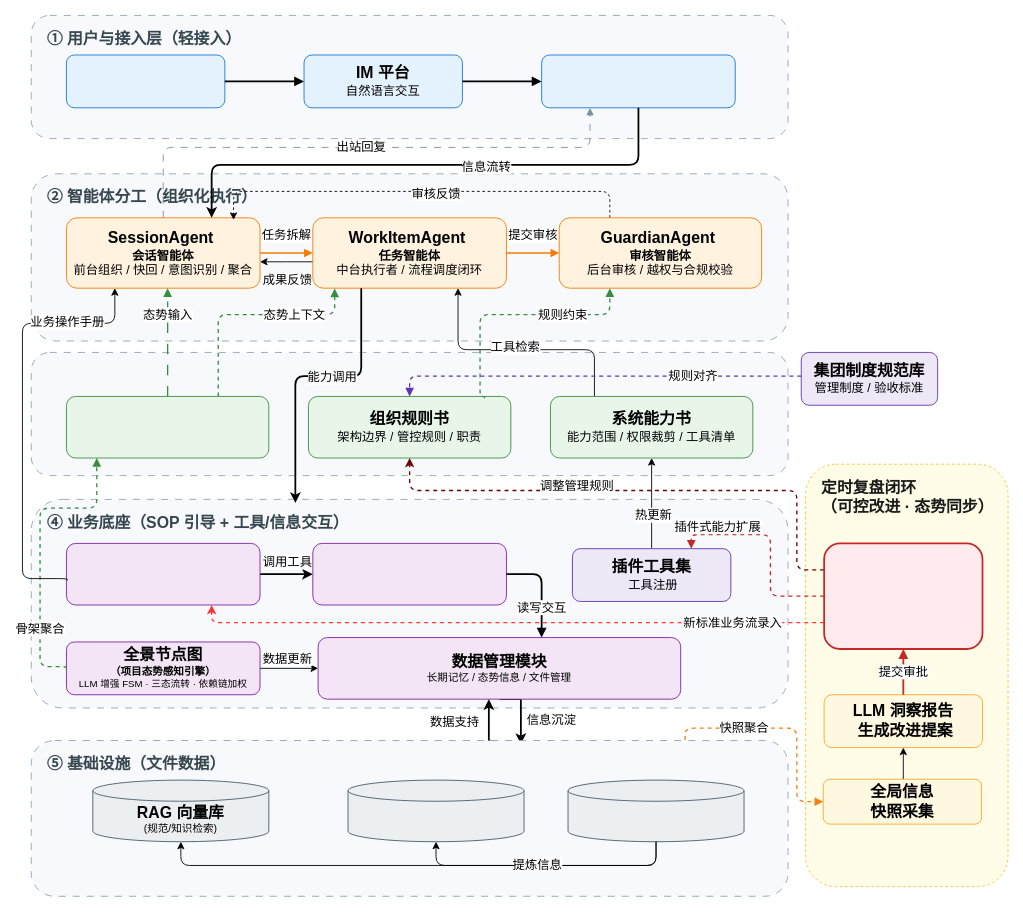
Image size: 1023x912. Some labels were removed from this diagram. Here are the shapes that lost their labels. From the top down, the box of each, then its label:
(66, 54, 225, 108): 企业员工 现场 / 项目 / 管理
(541, 54, 735, 108): 转接插件 去重 + 标准化 + 转发
(66, 396, 269, 458): 项目态势书 全景节点骨架 · 认知聚合
(30, 352, 788, 476): ③ 三书认知基座（共享信息地图 ）
(66, 543, 260, 605): SOP 库 事件/任务/会议标准作业流程
(312, 543, 506, 605): 工具服务模块 业务流工具直调 / 注册兜底
(823, 542, 983, 649): 人工审批放行 （管理员 / 责任人 · 系统仅提案）
(347, 779, 524, 842): 关系型数据库 (业务/日志/节点)
(567, 779, 744, 842): 原始文档库 (证照/图纸/会议成果)
